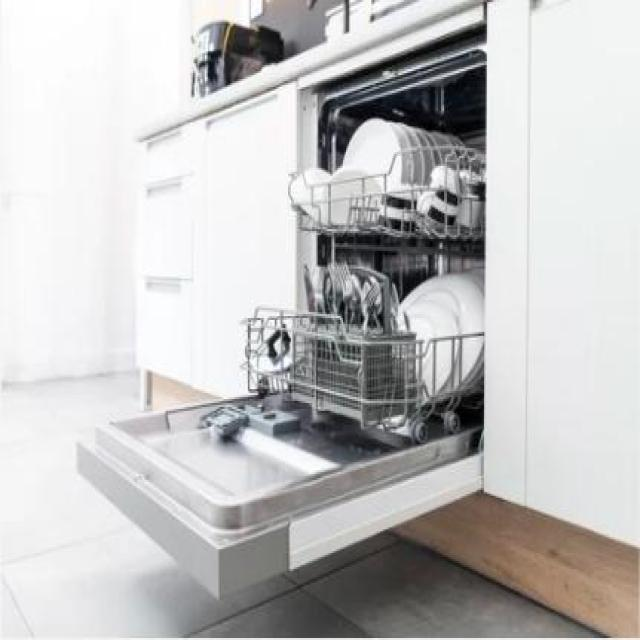dishwasher: (71, 16, 486, 598)
